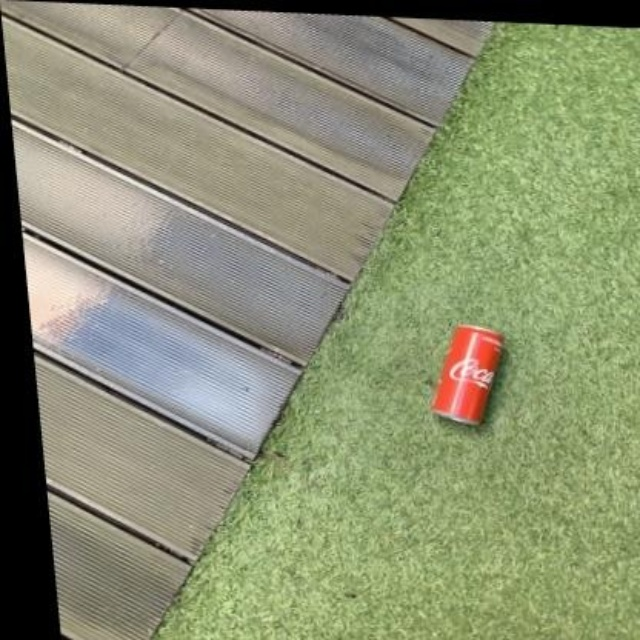trash: (432, 325, 502, 423)
